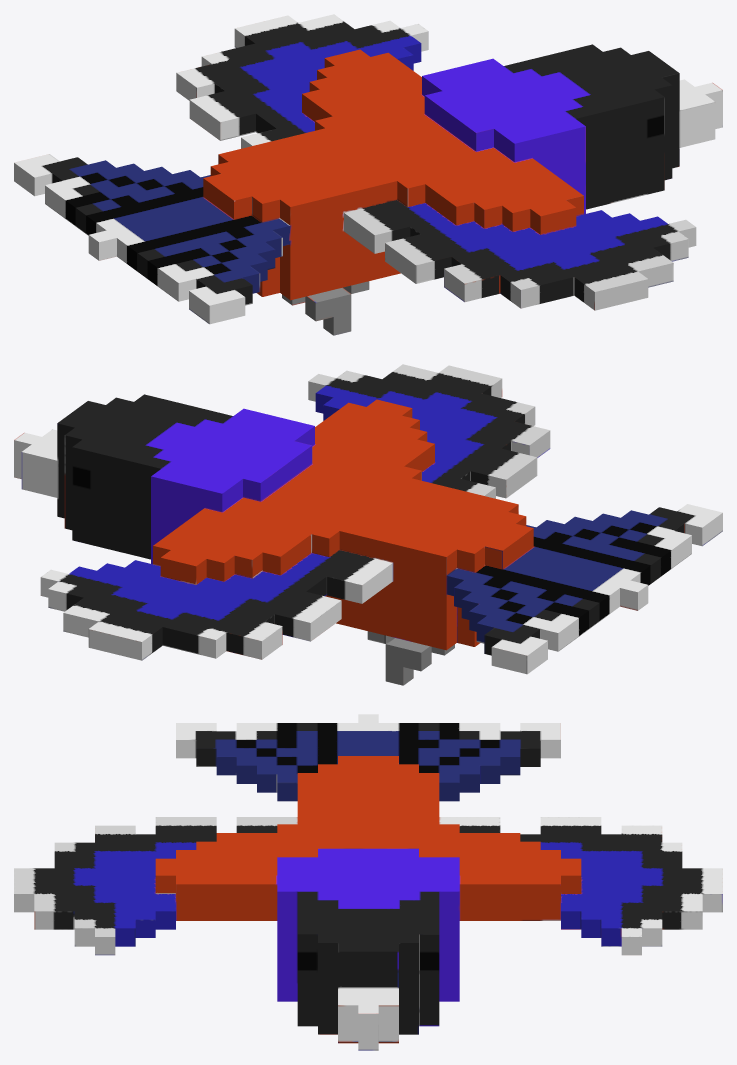
Rendered from rurikakesu_fly.glb.
The picture shows the model from 3 angles, top to bottom: view 1: azimuth 30°, elevation 25°; view 2: azimuth 150°, elevation 25°; view 3: azimuth 270°, elevation 25°; orthographic projection.
Visible parts, largest first — view 1: rurikakesu_fly; view 2: rurikakesu_fly; view 3: rurikakesu_fly.
Boxes of the visible parts, box(x1,y1,x2,y2) form: rurikakesu_fly: box(14, 14, 722, 335); rurikakesu_fly: box(14, 364, 722, 685); rurikakesu_fly: box(14, 714, 722, 1050).
Size of the model in its own units: 0.7 by 0.18 by 0.7.
1 material, 1 textured.
